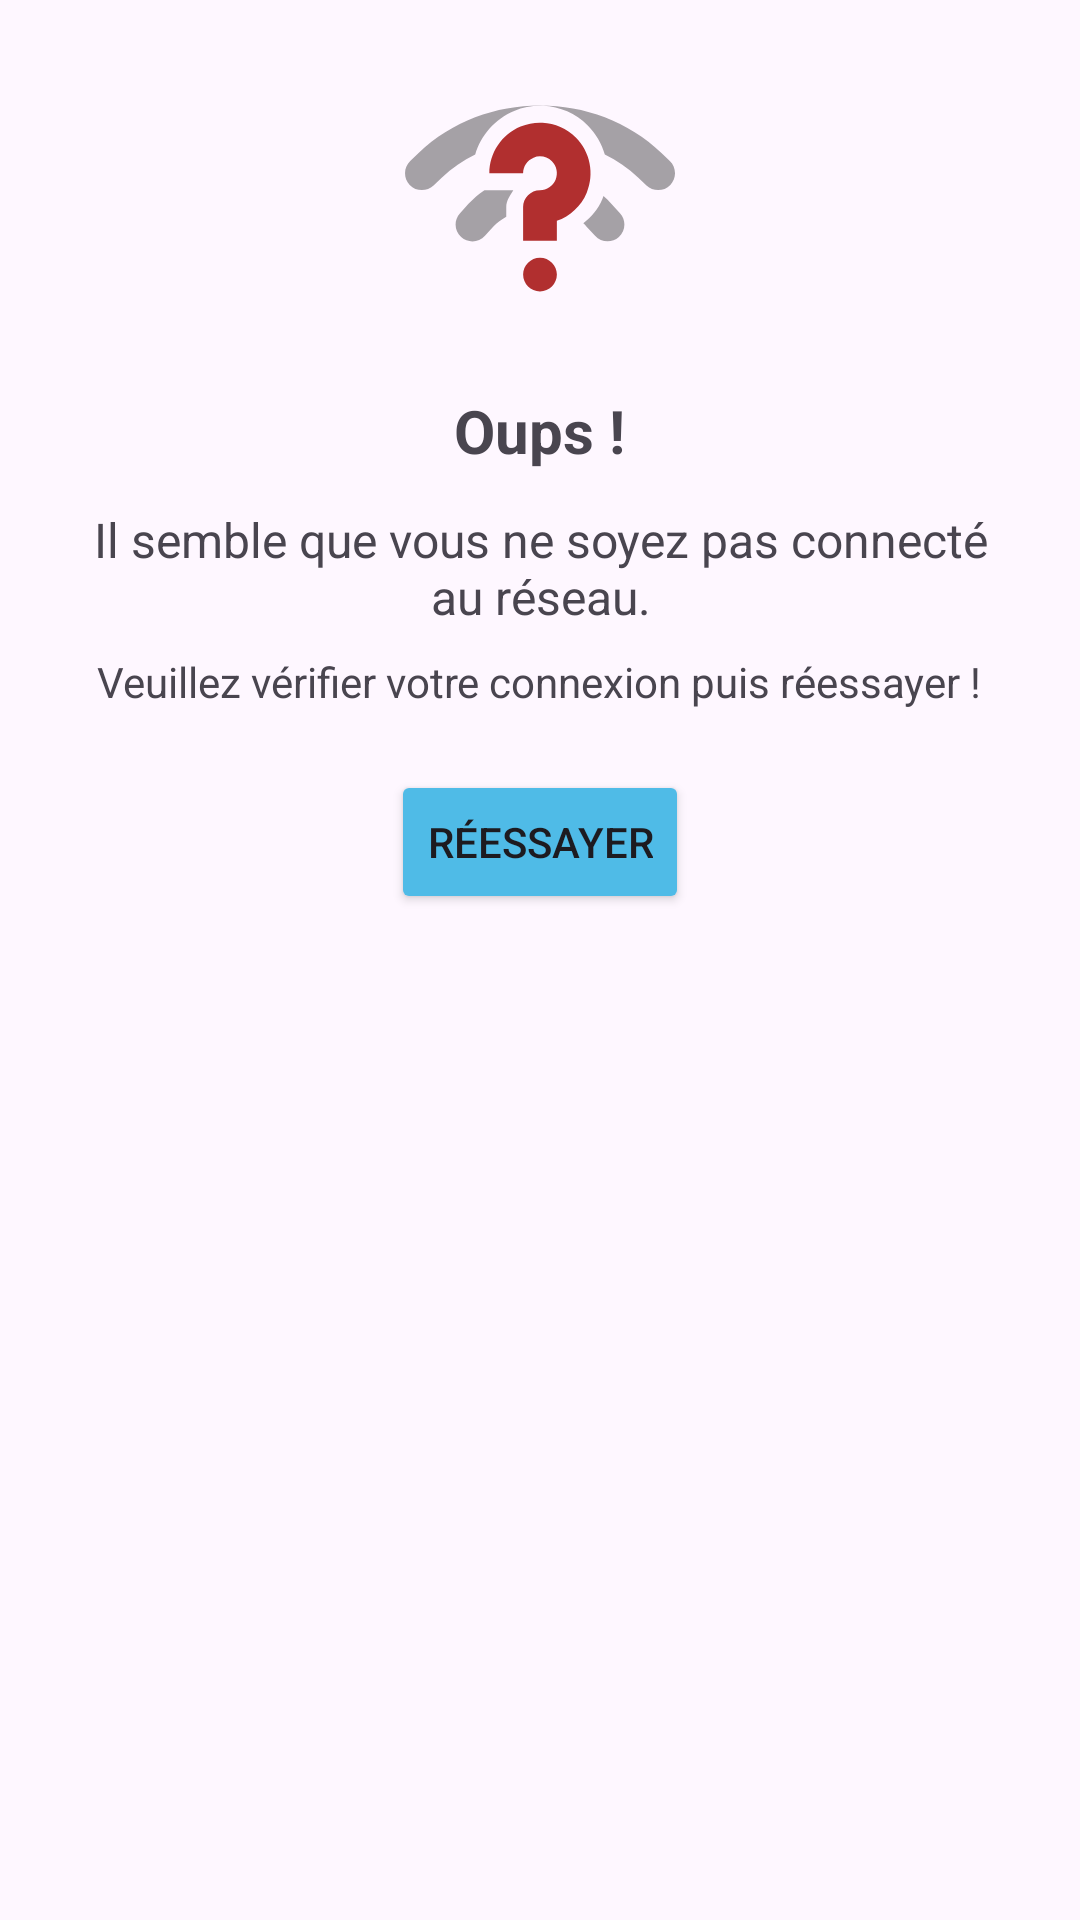

Point at icon controls on the screen. Image size 1080 × 1920, points as (x=x, y=y).
network wireless no route: (x=540, y=198)
